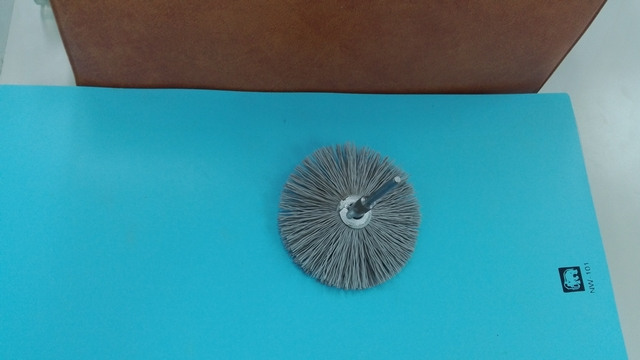TOOL: (254, 131, 444, 307), (275, 159, 426, 291)
